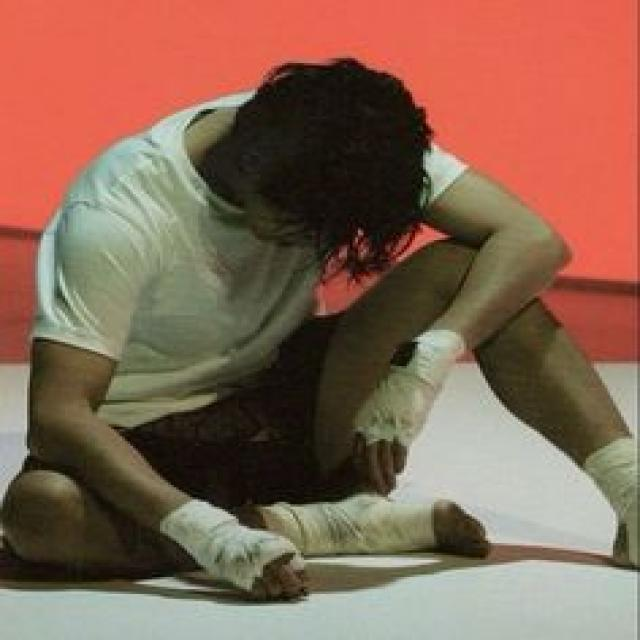9_cabeza_baja: (196, 54, 432, 280)
